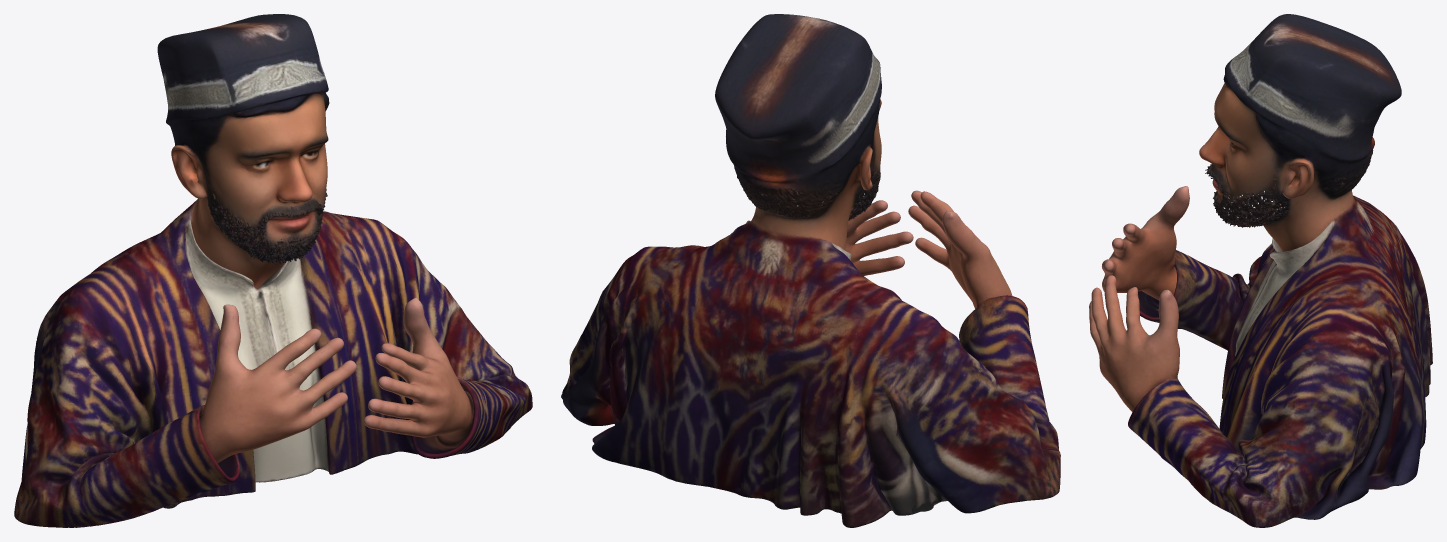
The model's file is men.glb.
3 views of the same model, side by side, from view 1: azimuth 30°, elevation 25°; view 2: azimuth 150°, elevation 25°; view 3: azimuth 270°, elevation 25° (orthographic). The views are drawn at different scales.
Visible parts, largest first — view 1: world; view 2: world; view 3: world.
Boxes of the visible parts, x1=… form: world: x1=14, y1=14, x2=532, y2=527; world: x1=561, y1=14, x2=1060, y2=527; world: x1=1089, y1=14, x2=1432, y2=527.
Size of the model in its own units: 1 by 0.8142 by 0.6617.
Materials: 1 (1 with a texture image).
